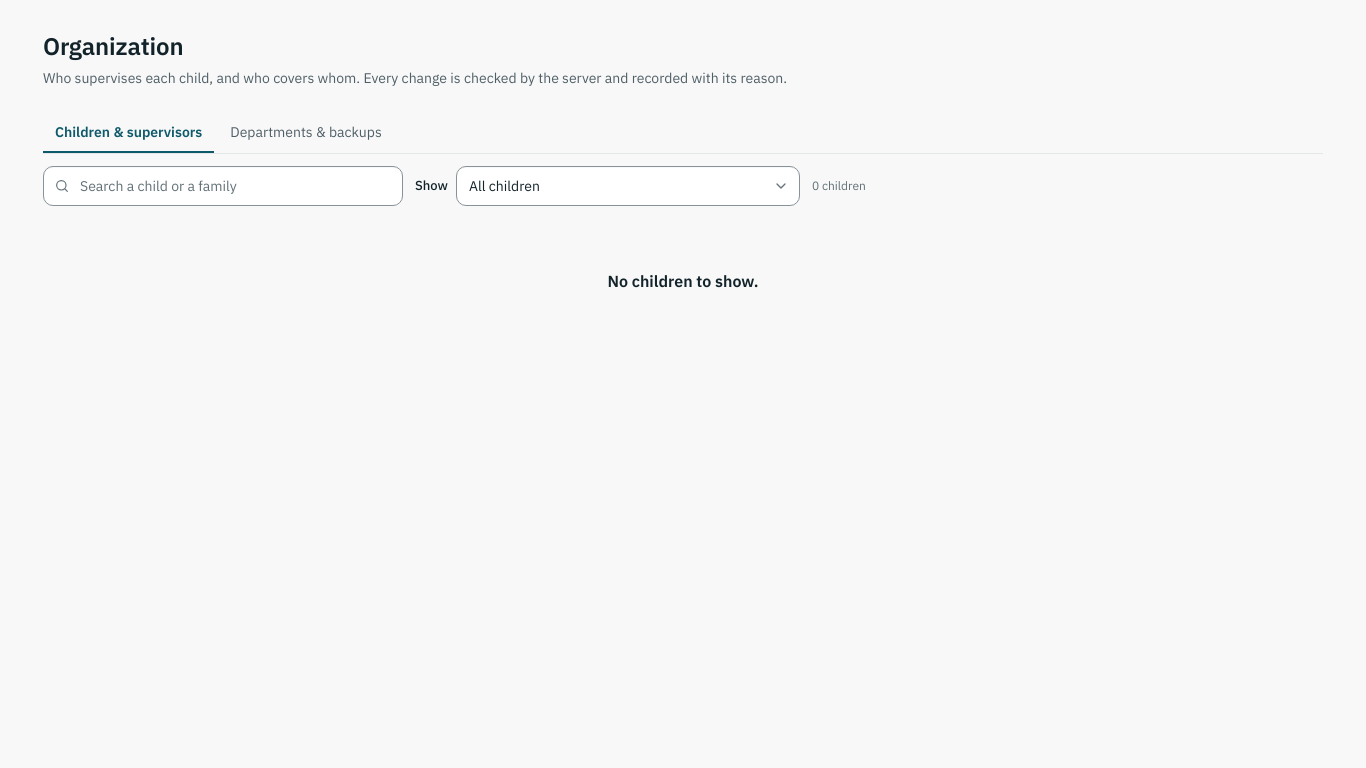
the Organization page › shows who is away and who covers, and offers "Hand over to backup" for the others
This screenshot has width=1366, height=768.
Click the tab "Departments & backups".
click(306, 134)  # box [218,114,394,153]
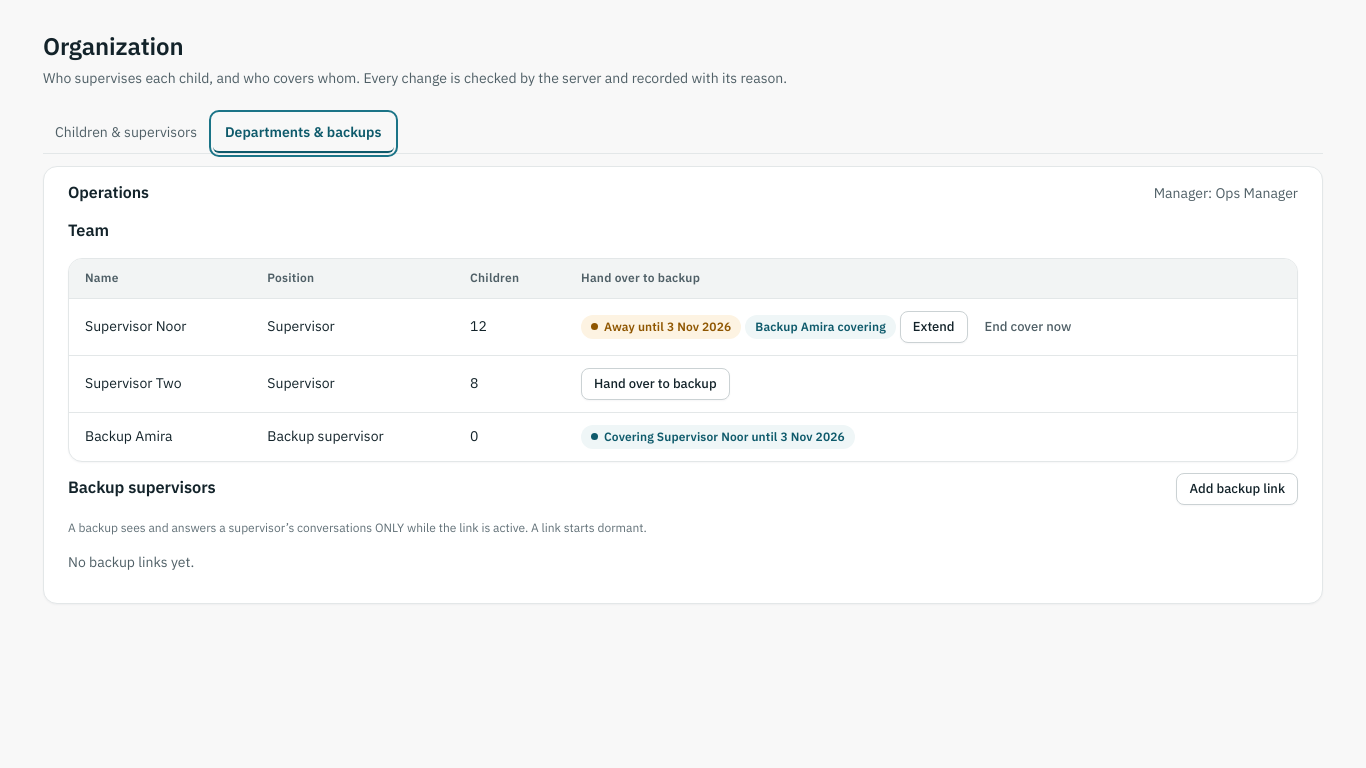
Result: the text "Away until 3 Nov 2026" is shown at [581,315,741,339]
Result: the text "Backup Amira covering" is shown at [745,315,896,339]
Result: the button "Extend" is shown at [900,311,968,343]
Click the button with aria-label "Hand over to backup — Supervisor Two".
click(655, 384)  # box [581,368,730,400]
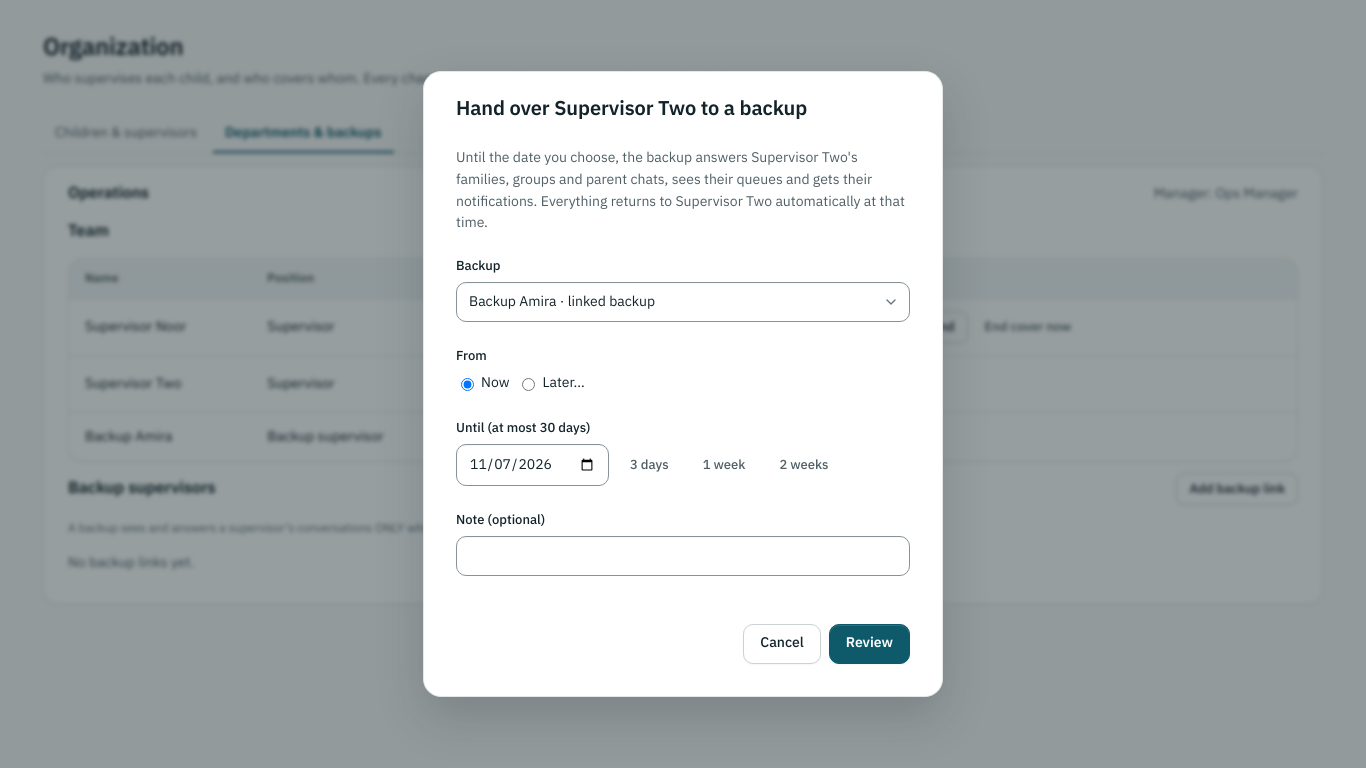
Result: the dialog "Hand over Supervisor Two to a backup" is shown at [423,71,943,697]
